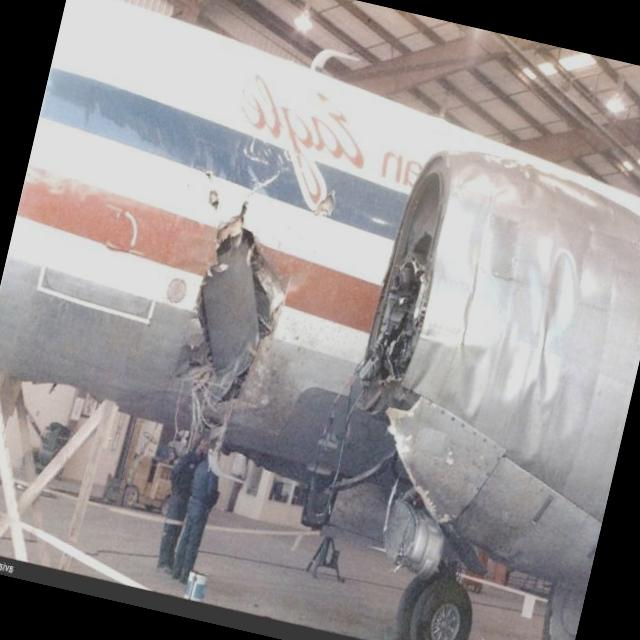dent: (415, 215, 620, 486)
